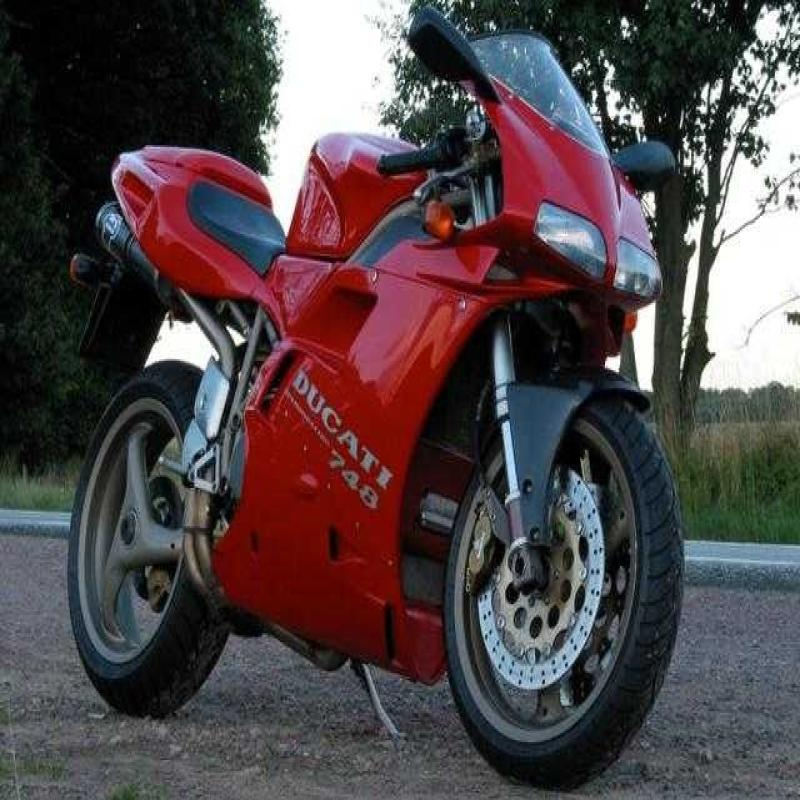bike: (57, 10, 685, 800)
